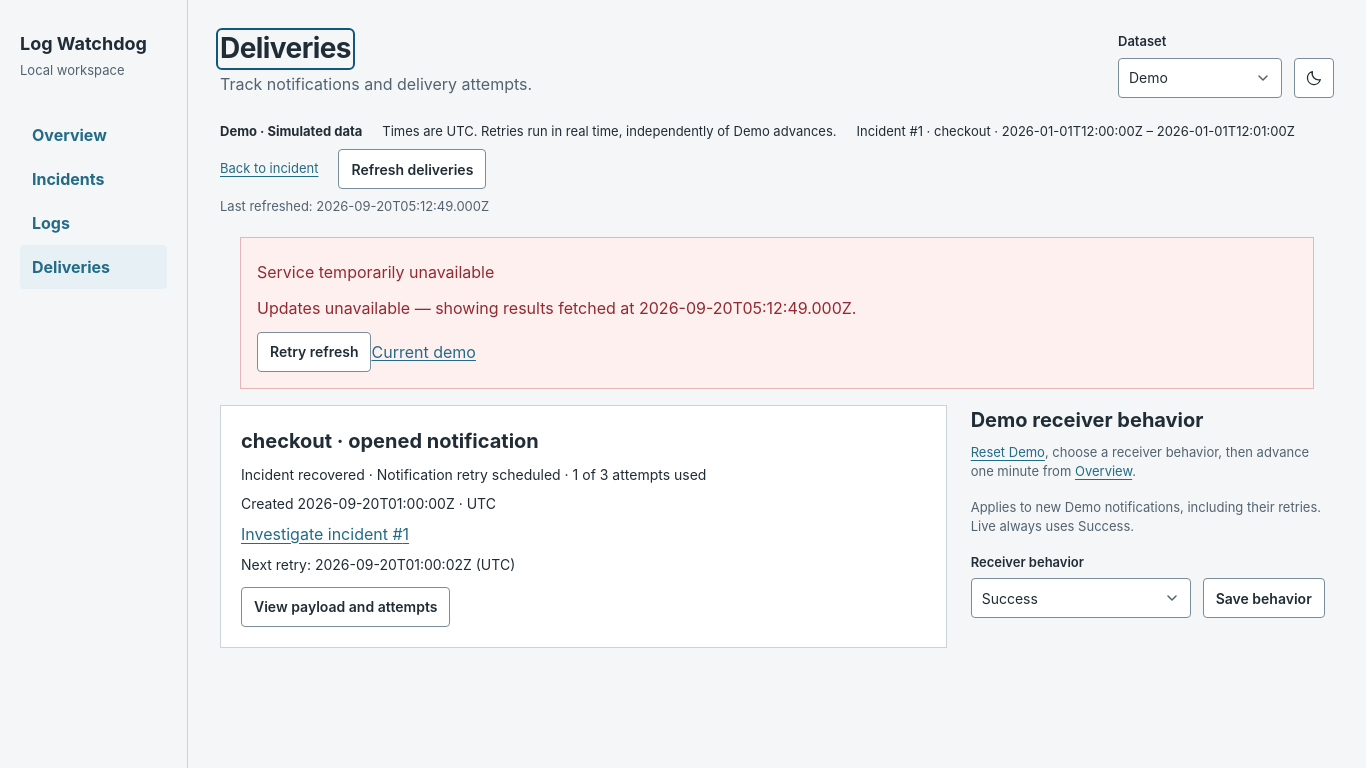
keeps prior results and offers retry after refresh failure
Check: the button "View payload and attempts" is shown, box left=241, top=586, right=450, bottom=626
Check: the message shows "Updates unavailable", box left=257, top=298, right=639, bottom=318
Click the button "Retry refresh" at (314, 352), box left=257, top=332, right=372, bottom=372
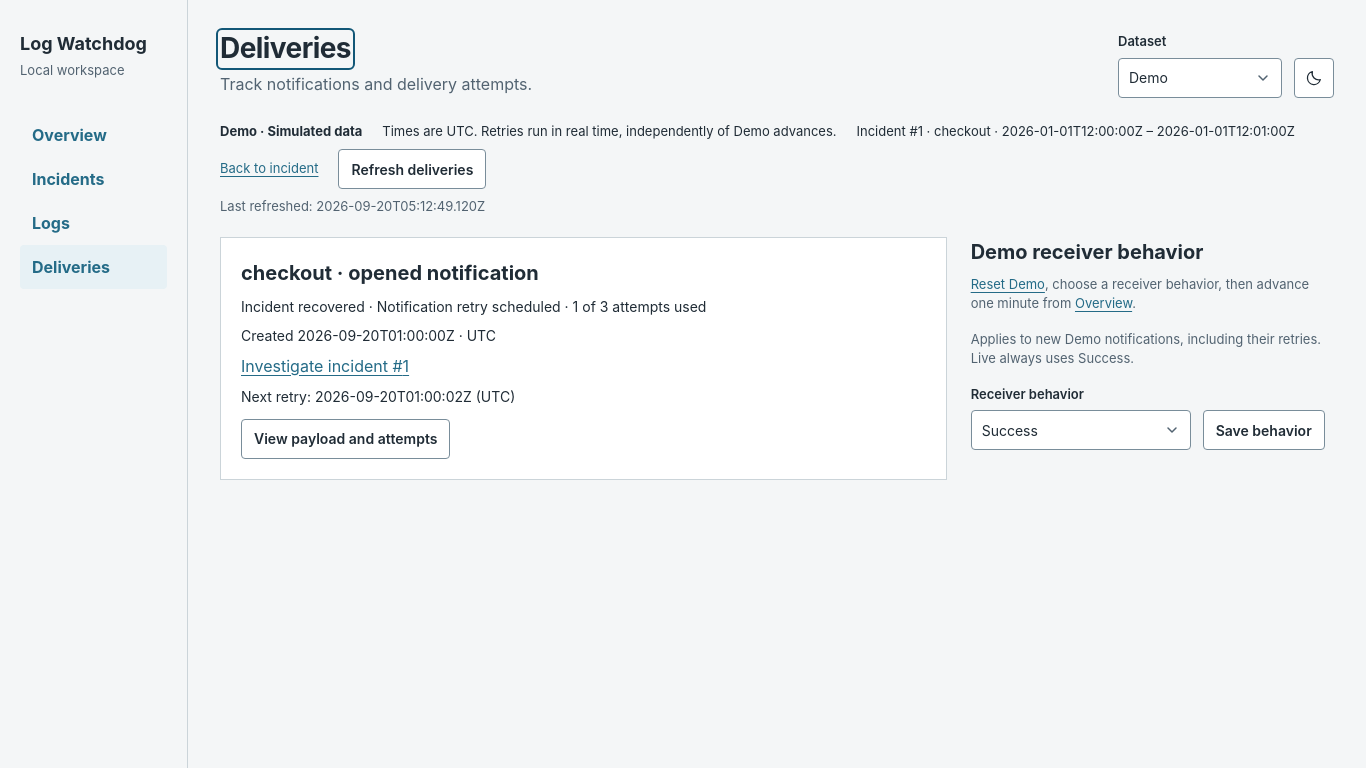
Check: the message is gone
